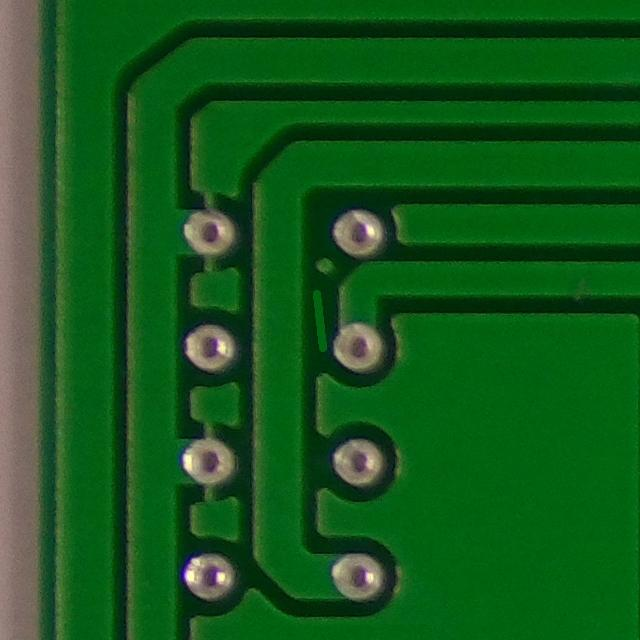spurious_copper: (303, 283, 337, 358)
